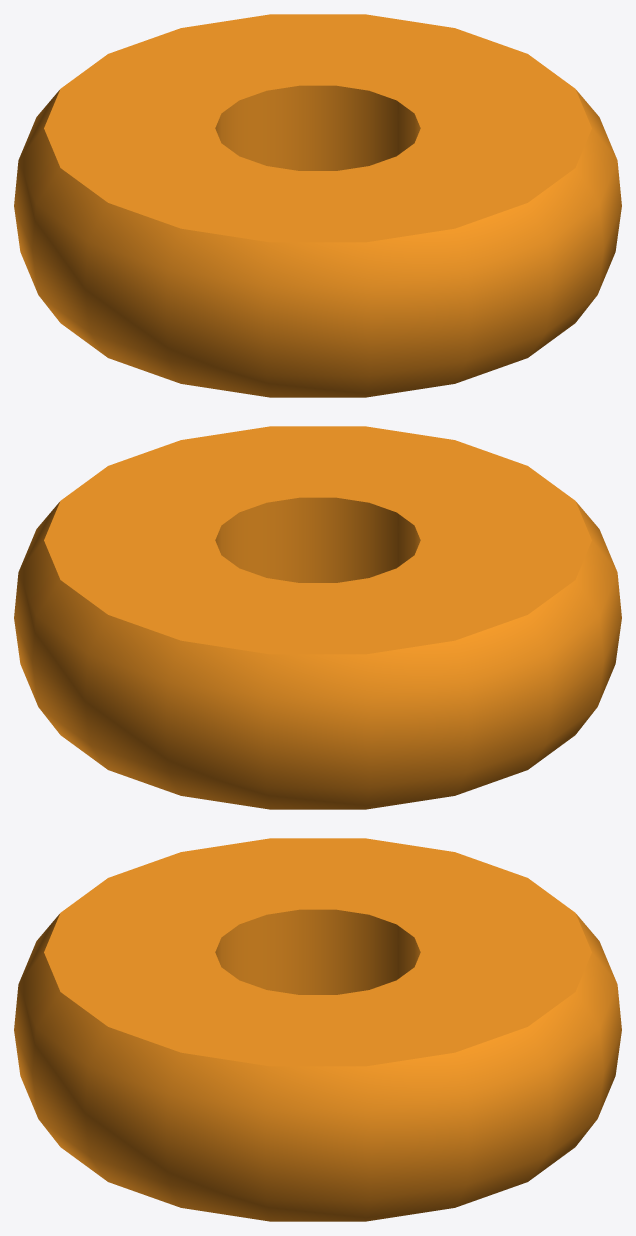
The model's file is ThrowProp_RainbowStackerRing_06.FBX.
3 renders of one model, top to bottom at view 1: azimuth 30°, elevation 25°; view 2: azimuth 150°, elevation 25°; view 3: azimuth 270°, elevation 25°, orthographic.
Parts seen in each view (by area): view 1: RainbowStackerRing_06; view 2: RainbowStackerRing_06; view 3: RainbowStackerRing_06.
Part boxes in pixels (box(x1,y1,x2,y2)): RainbowStackerRing_06: box(14, 14, 621, 397); RainbowStackerRing_06: box(14, 426, 621, 809); RainbowStackerRing_06: box(14, 838, 621, 1221).
Bounding box in the file's own units: 8.74 × 2.5 × 8.88.
Materials: 1 (1 with a texture image).
